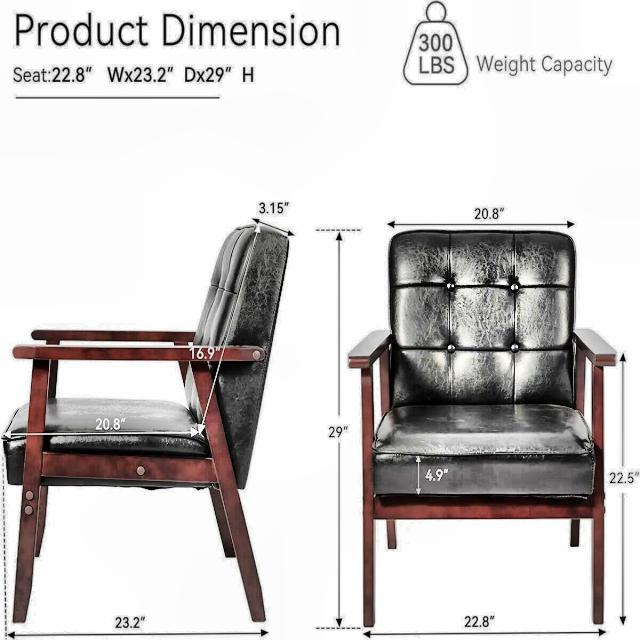sofa: (1, 218, 293, 624), (347, 228, 616, 628)
